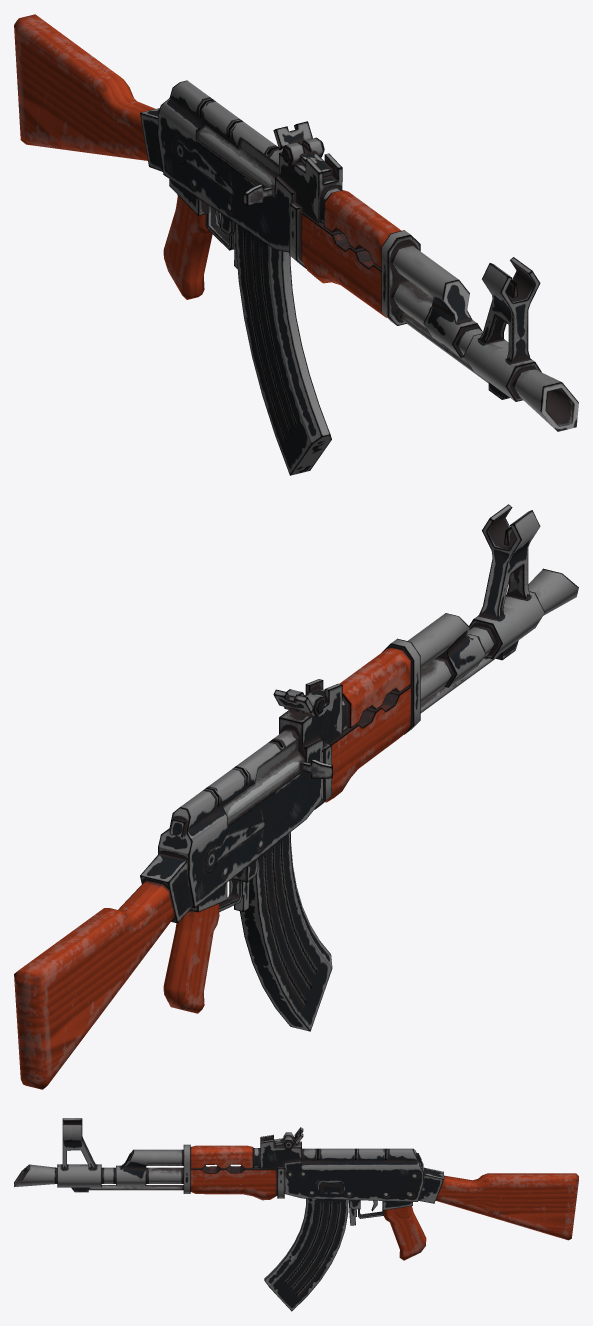
3 views of the same model, one above another, from view 1: azimuth 30°, elevation 25°; view 2: azimuth 150°, elevation 25°; view 3: azimuth 270°, elevation 25° (orthographic). The views are drawn at different scales.
Visible parts, largest first — view 1: AK-47; view 2: AK-47; view 3: AK-47.
Part boxes in pixels (x1=…): AK-47: x1=14, y1=14, x2=578, y2=475; AK-47: x1=14, y1=504, x2=578, y2=1089; AK-47: x1=14, y1=1118, x2=578, y2=1311.
Size of the model in its own units: 5.97 by 31.94 by 87.1.
